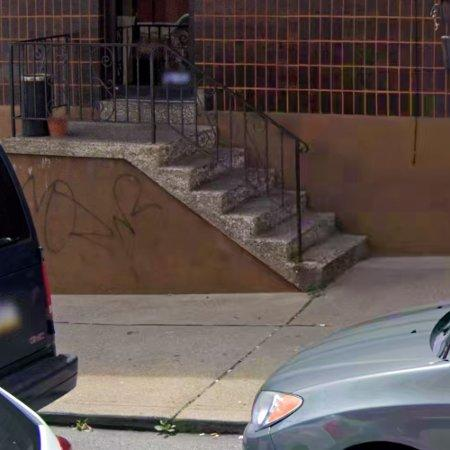stairs: (3, 100, 368, 291)
